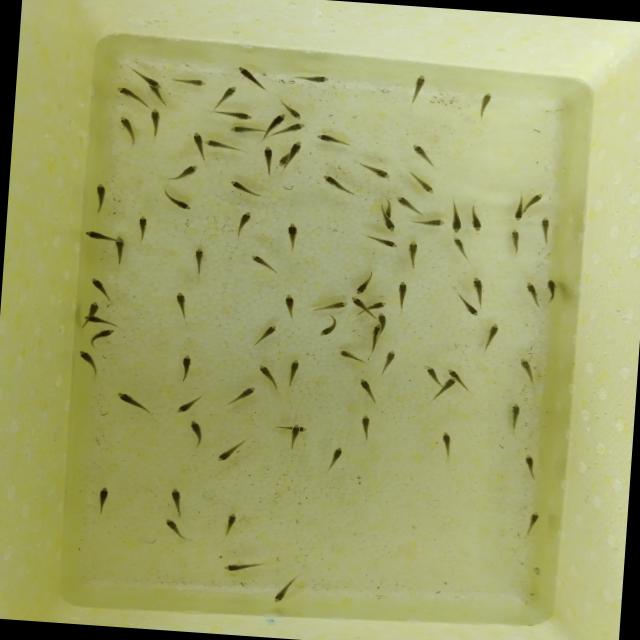fingerling: (118, 392, 154, 417), (232, 64, 266, 90), (267, 578, 295, 608), (215, 438, 244, 466), (227, 386, 256, 412), (160, 516, 188, 542), (448, 234, 474, 262), (322, 174, 354, 196), (250, 324, 276, 351), (171, 162, 201, 185), (166, 480, 187, 512), (432, 377, 457, 403), (160, 192, 194, 211), (408, 173, 436, 196), (310, 132, 350, 148), (132, 68, 162, 89), (282, 423, 303, 452), (409, 142, 434, 166), (174, 398, 204, 418), (366, 318, 384, 351), (185, 420, 206, 448), (116, 114, 138, 140), (76, 346, 102, 368), (523, 278, 542, 308), (408, 73, 426, 104), (351, 296, 375, 319), (518, 358, 540, 383), (325, 446, 346, 472), (449, 199, 465, 233), (90, 322, 120, 340), (94, 482, 112, 512), (357, 378, 380, 401), (216, 82, 238, 106), (420, 364, 444, 386), (246, 253, 273, 272), (363, 163, 393, 180), (481, 324, 498, 354), (280, 100, 304, 121), (260, 140, 278, 168), (288, 356, 304, 387), (233, 210, 252, 236), (393, 280, 412, 306), (222, 560, 257, 574), (458, 300, 481, 321), (257, 363, 280, 384), (227, 180, 257, 196), (468, 203, 484, 233), (284, 222, 300, 252), (110, 238, 126, 268), (190, 126, 207, 154), (148, 103, 162, 137), (222, 513, 240, 539), (337, 349, 368, 364), (315, 318, 338, 338), (178, 351, 193, 381), (524, 513, 542, 538), (314, 300, 346, 314), (190, 248, 206, 276), (539, 214, 553, 246), (230, 122, 262, 136), (416, 214, 448, 228), (199, 138, 236, 150), (176, 292, 193, 318), (356, 273, 376, 295), (294, 74, 334, 85), (220, 110, 256, 122), (379, 212, 398, 234), (475, 88, 491, 114), (508, 226, 524, 252), (524, 452, 540, 478), (145, 84, 168, 102), (86, 231, 120, 243), (283, 294, 299, 319), (394, 193, 416, 211), (468, 275, 486, 297), (406, 238, 420, 266), (94, 183, 108, 211), (268, 112, 284, 136), (170, 77, 208, 87), (512, 195, 526, 222), (438, 432, 453, 457), (379, 352, 396, 374), (89, 278, 112, 294), (545, 280, 561, 303), (358, 416, 373, 440), (132, 212, 152, 230), (112, 82, 134, 98), (506, 401, 520, 425), (78, 311, 102, 324), (284, 122, 308, 134), (529, 190, 545, 208), (289, 140, 303, 158), (368, 298, 386, 312), (372, 237, 397, 247), (446, 366, 462, 380), (377, 313, 387, 331), (280, 152, 290, 168), (87, 300, 99, 312)
